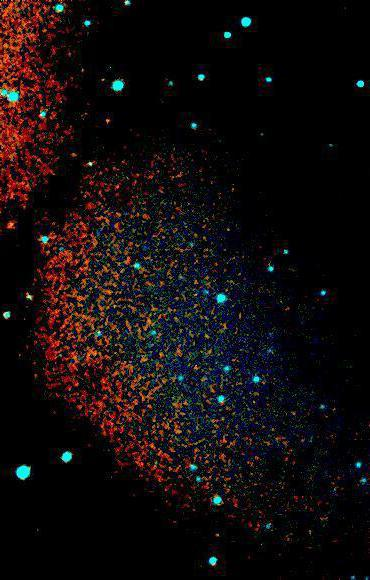star: (86, 107, 116, 137)
